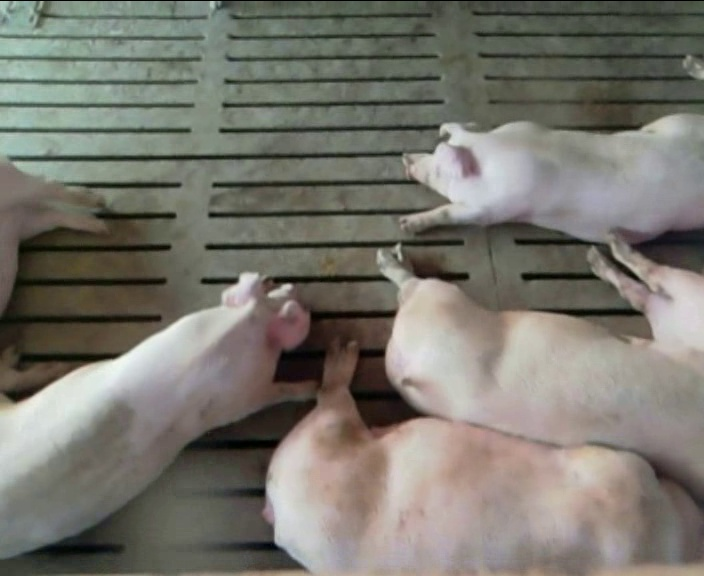pig: (267, 343, 703, 573), (0, 273, 313, 557), (378, 241, 703, 502), (401, 115, 703, 242)
